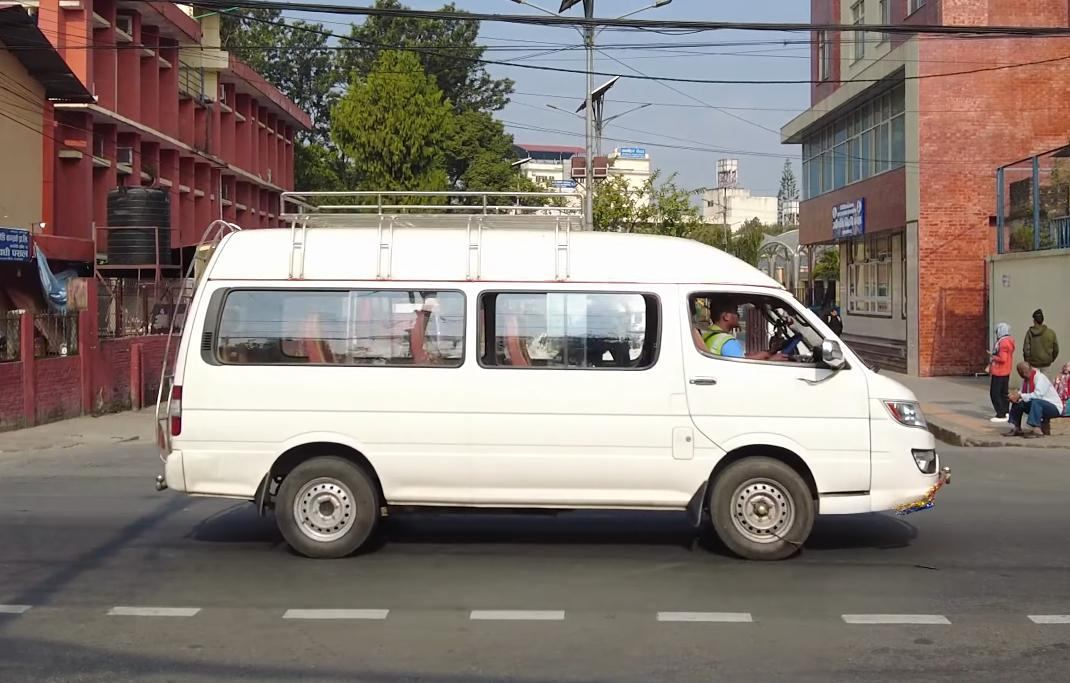micro_bus: (149, 188, 956, 567)
